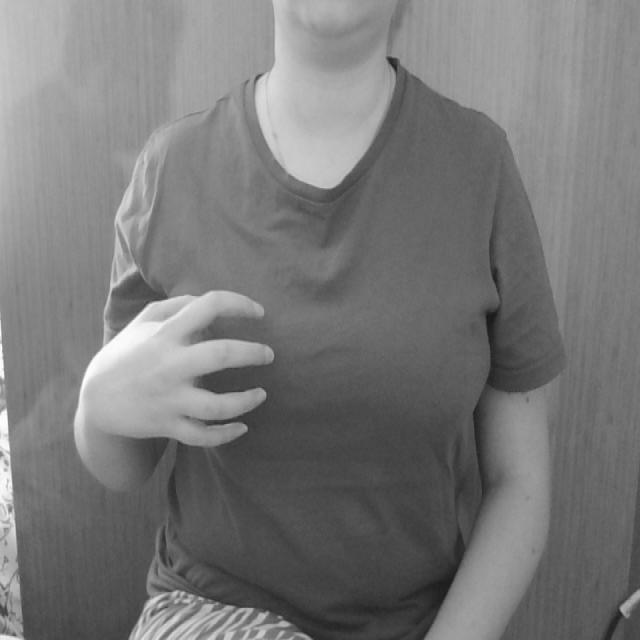Anne: (66, 259, 501, 457)
